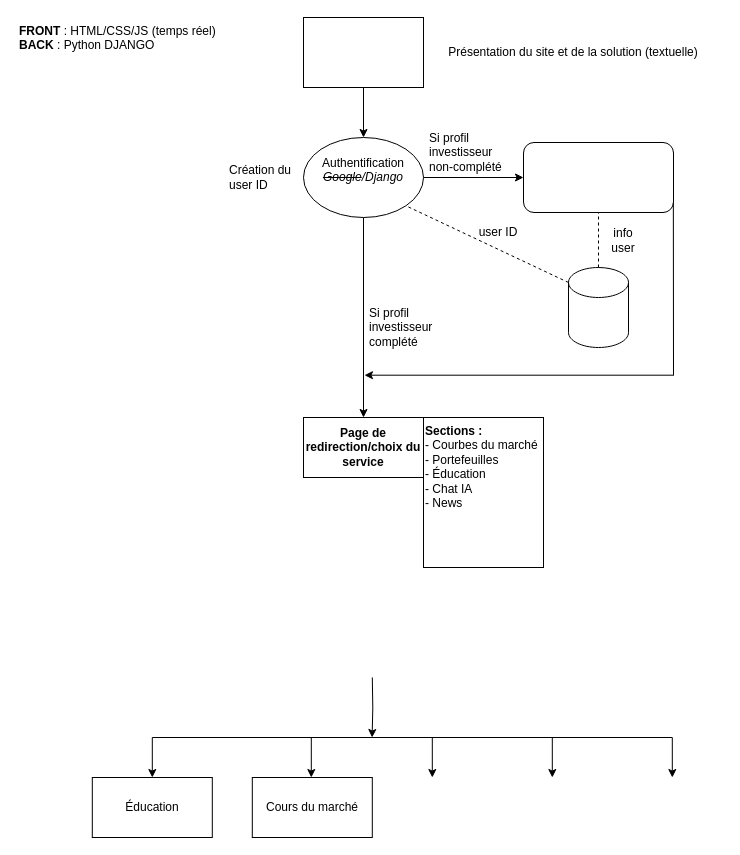
Some shapes in this 740 by 855 pixel diagram are drawn without their labels. Here are the shapes that lost their labels. From the top down, the centre of each, then its label:
the point at 363,52: Acceuil
the point at 598,177: Complétion du profil investisseur
